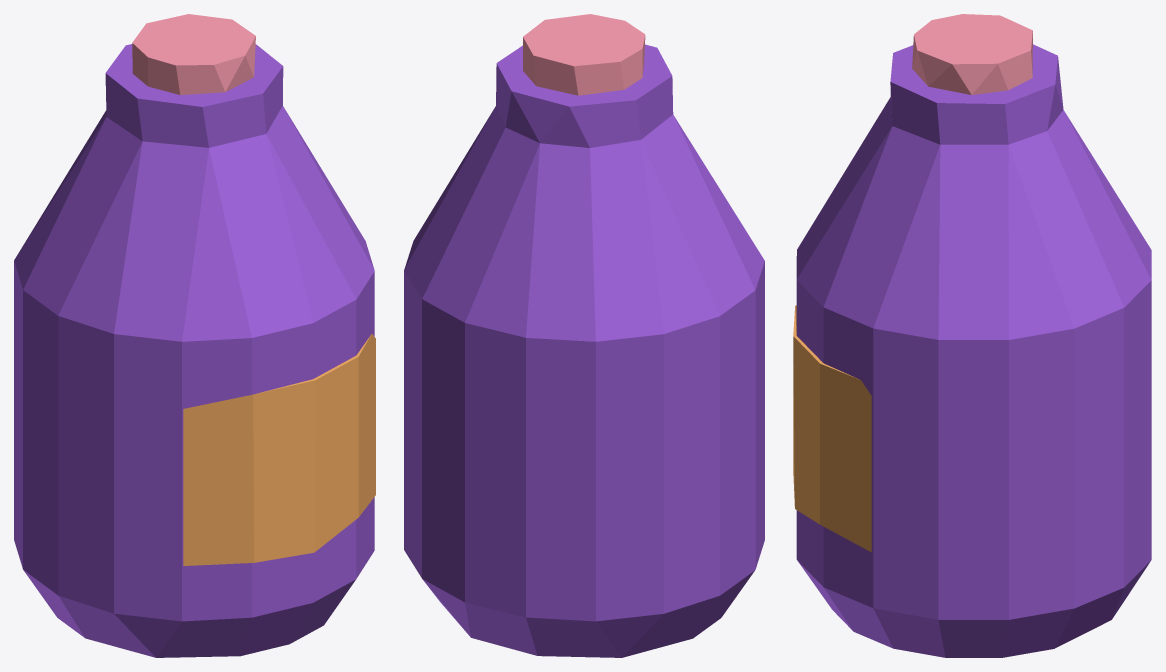
Rendered from Bottle_2.fbx.
The picture shows the model from 3 angles, left to right: view 1: azimuth 30°, elevation 25°; view 2: azimuth 150°, elevation 25°; view 3: azimuth 270°, elevation 25°; orthographic projection.
Visible parts, largest first — view 1: Bottle #2; view 2: Bottle #2; view 3: Bottle #2.
Part boxes in pixels (x1,y1,x2,y2): Bottle #2: [14, 14, 375, 657]; Bottle #2: [404, 14, 764, 657]; Bottle #2: [793, 14, 1151, 657].
Bounding box in the file's own units: 16.27 × 28.24 × 16.43.
